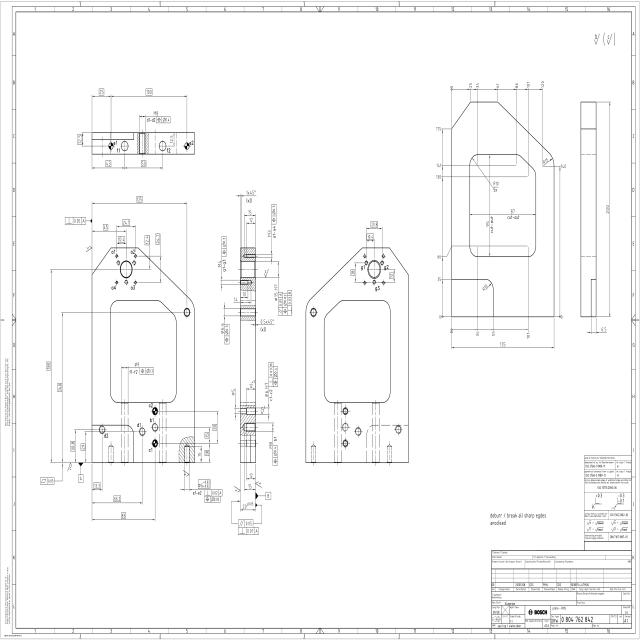dimension: (110, 87, 188, 134), (596, 100, 612, 319), (552, 162, 568, 320), (44, 268, 52, 463), (56, 311, 64, 464), (484, 154, 495, 258), (451, 340, 555, 350), (469, 206, 536, 221), (472, 157, 499, 193), (91, 195, 188, 205), (91, 87, 111, 134), (91, 511, 156, 522), (124, 153, 164, 170), (524, 245, 531, 340), (90, 494, 144, 506), (91, 154, 126, 172), (525, 80, 531, 178), (514, 81, 520, 165), (475, 82, 481, 156), (540, 80, 545, 166), (154, 233, 162, 284), (588, 316, 608, 336), (91, 222, 127, 233), (230, 298, 248, 319), (434, 161, 470, 171), (203, 426, 212, 464), (210, 410, 220, 444), (69, 428, 78, 464), (231, 387, 240, 421), (236, 189, 256, 204), (76, 131, 92, 148), (257, 318, 275, 333), (80, 430, 88, 463), (144, 234, 151, 271), (449, 82, 454, 128), (116, 218, 136, 228), (366, 219, 384, 230), (239, 501, 256, 512), (467, 81, 474, 102), (350, 261, 356, 284), (542, 156, 554, 167), (481, 280, 492, 292), (246, 378, 256, 391), (388, 268, 396, 284), (490, 316, 496, 337), (92, 481, 103, 492), (197, 444, 203, 464), (244, 208, 256, 218), (435, 125, 452, 132), (435, 252, 448, 261), (475, 316, 480, 338), (244, 482, 256, 491), (495, 81, 500, 102), (168, 132, 175, 147), (242, 291, 252, 301), (366, 232, 375, 243), (117, 236, 126, 245), (435, 173, 443, 183), (246, 472, 255, 480), (246, 218, 256, 225), (436, 276, 444, 284)
